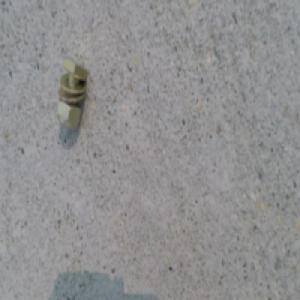BoltNutSet: (59, 65, 89, 136)
